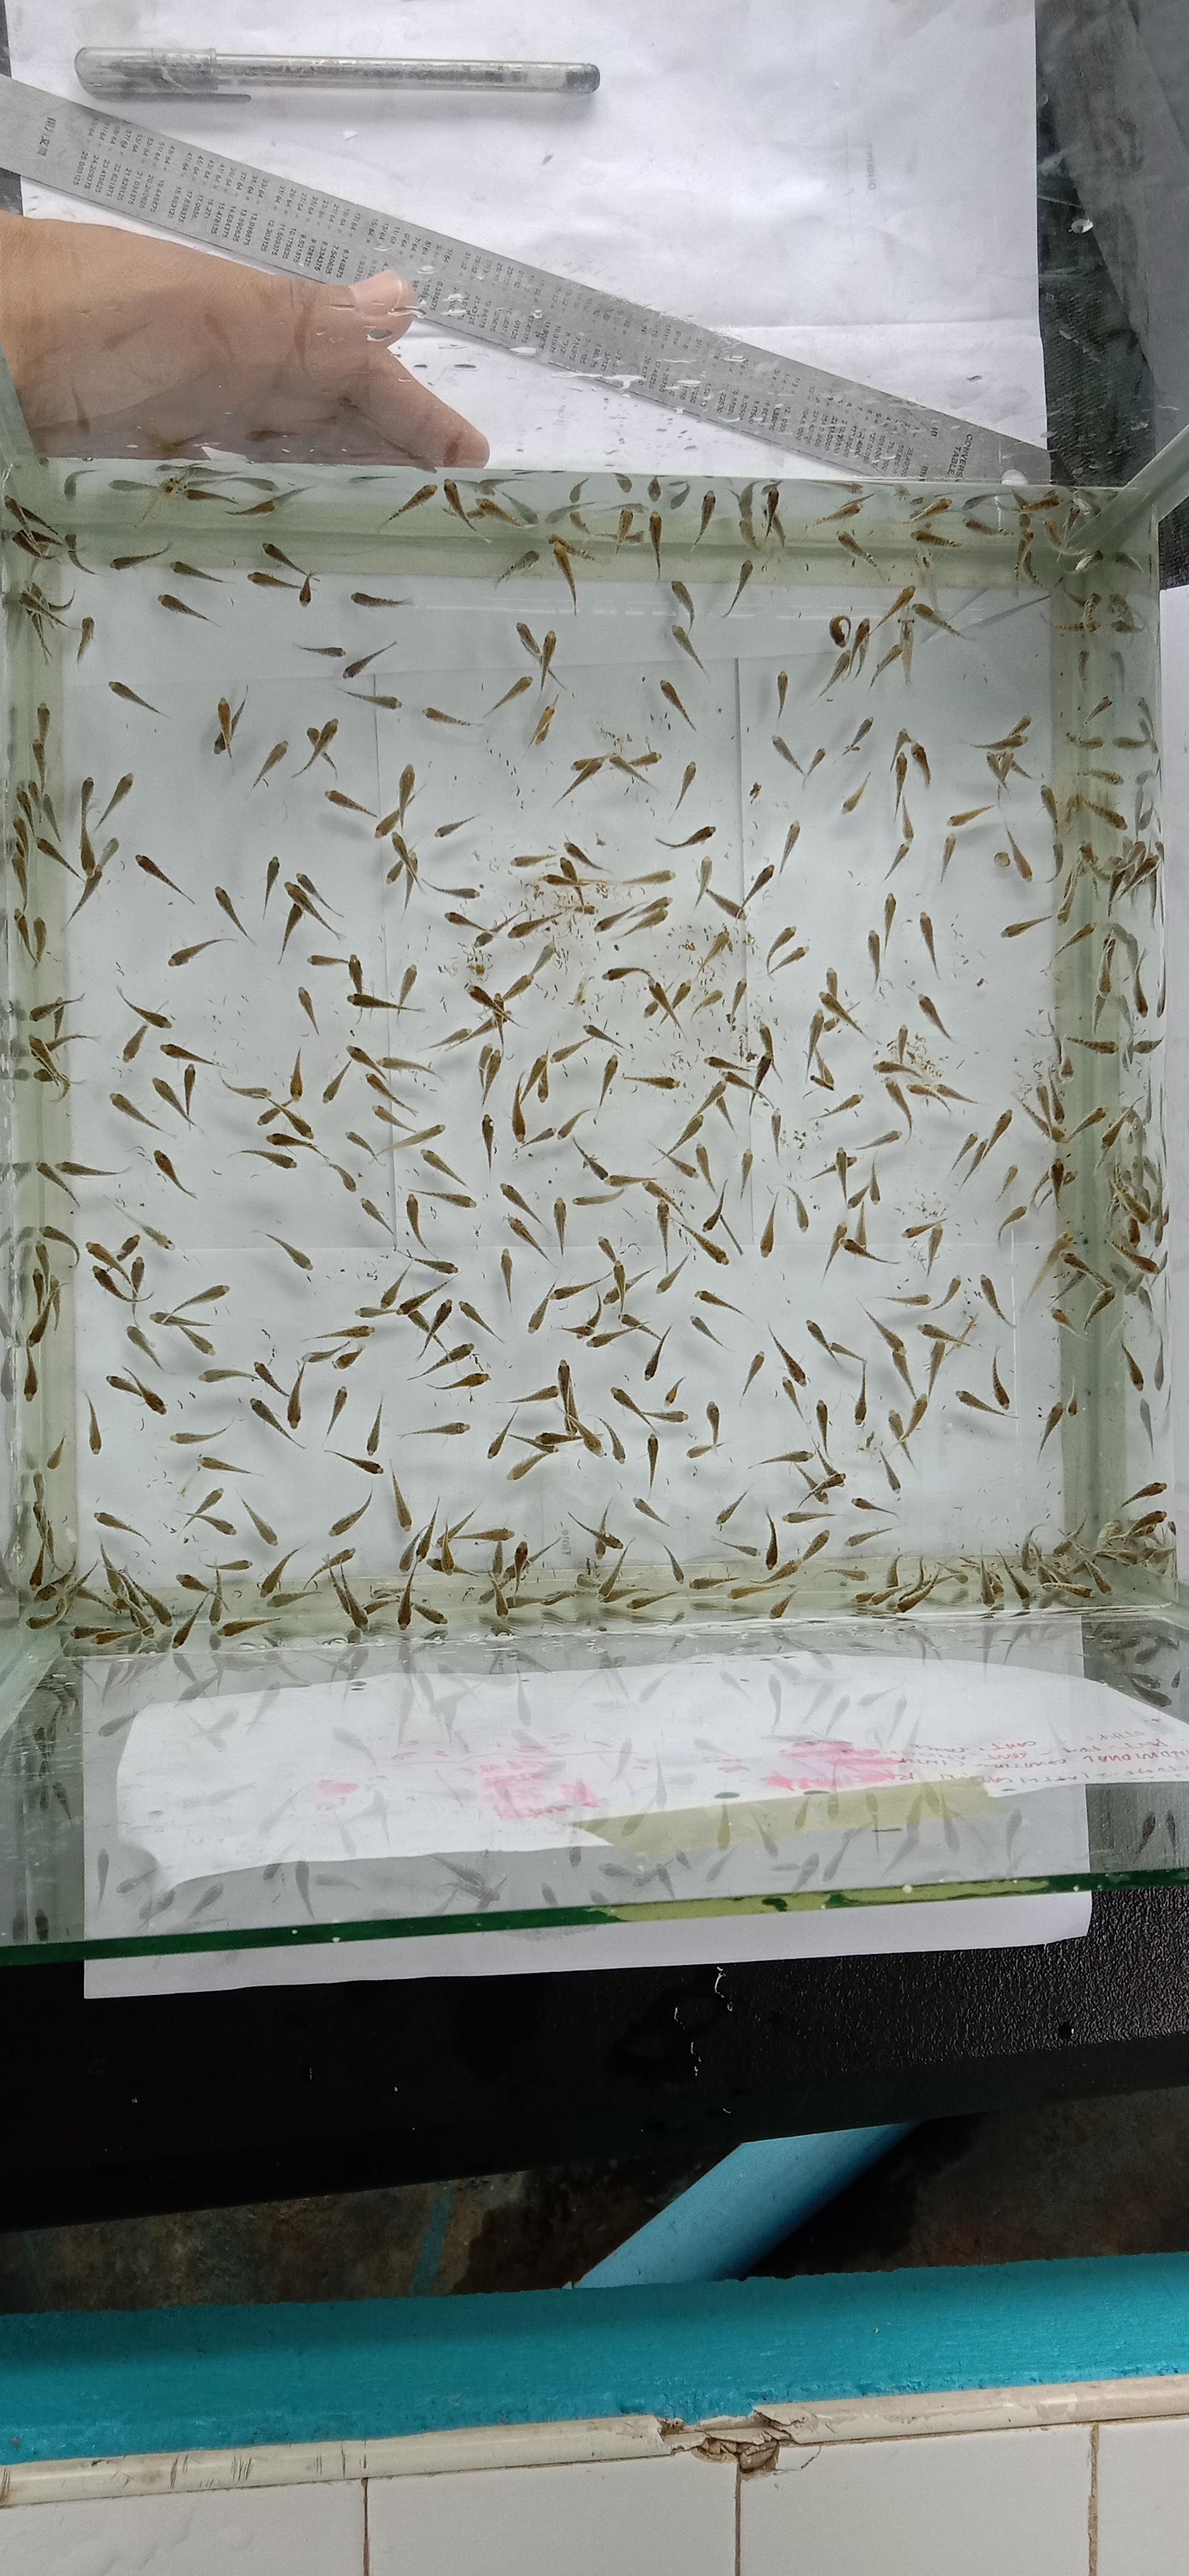fish: (325, 762, 484, 912), (816, 537, 967, 694), (56, 1542, 204, 1655), (513, 838, 673, 936), (425, 942, 559, 1051), (37, 773, 131, 925), (509, 1035, 620, 1154), (712, 1507, 828, 1618), (491, 1359, 611, 1466), (456, 1529, 565, 1637), (1016, 1081, 1104, 1212), (752, 1398, 847, 1516), (355, 1263, 454, 1358), (493, 532, 601, 616), (553, 726, 661, 806), (110, 466, 276, 515), (803, 967, 868, 1091), (886, 1338, 951, 1461), (882, 729, 931, 879), (853, 1554, 966, 1618), (594, 1235, 659, 1343), (99, 1544, 172, 1630), (258, 1543, 354, 1608), (567, 1500, 629, 1598), (23, 1238, 60, 1401), (345, 1103, 445, 1162), (701, 1146, 756, 1254), (604, 965, 690, 1030), (1017, 1084, 1104, 1147), (268, 1129, 357, 1191), (858, 1300, 915, 1395), (443, 479, 528, 541), (345, 1044, 417, 1118), (25, 1560, 98, 1631), (394, 1513, 437, 1630), (695, 856, 774, 920), (176, 1559, 251, 1625), (554, 1359, 603, 1456), (36, 1157, 130, 1207), (801, 1399, 846, 1505), (952, 1108, 1012, 1186), (821, 1217, 896, 1278), (1108, 1153, 1164, 1235), (27, 1030, 95, 1096), (329, 1396, 386, 1476), (69, 835, 120, 923), (912, 552, 962, 639), (1039, 783, 1127, 833), (571, 1137, 654, 1190), (1101, 921, 1147, 1015), (17, 581, 76, 655), (1013, 492, 1059, 585), (1022, 1227, 1074, 1307), (820, 616, 869, 700), (673, 1079, 732, 1149), (505, 1429, 581, 1482), (596, 725, 662, 786), (705, 1051, 775, 1108), (346, 1044, 442, 1086), (346, 963, 423, 1014), (955, 1347, 1011, 1417), (757, 1184, 809, 1258), (4, 496, 64, 559), (321, 1044, 384, 1103), (287, 871, 344, 936), (253, 1359, 306, 1429), (518, 1105, 591, 1154), (425, 1507, 477, 1576), (510, 1052, 550, 1143), (817, 968, 867, 1037), (621, 1312, 671, 1380), (7, 783, 33, 913), (598, 895, 671, 941), (481, 1536, 529, 1607), (90, 1258, 154, 1310), (551, 1022, 627, 1065), (375, 763, 417, 839), (134, 853, 196, 905), (610, 1386, 687, 1428), (1108, 838, 1159, 902), (869, 619, 915, 688), (692, 1143, 727, 1232), (770, 1528, 829, 1582), (249, 1396, 307, 1450), (830, 1344, 868, 1425), (152, 1284, 229, 1323), (886, 1394, 930, 1462), (291, 716, 339, 778), (500, 1362, 570, 1404), (515, 620, 559, 688), (405, 1295, 451, 1359), (329, 1564, 370, 1636), (865, 892, 897, 983), (568, 1503, 624, 1556), (505, 942, 557, 998), (186, 472, 275, 504), (568, 500, 639, 540), (601, 1258, 651, 1315), (729, 1562, 798, 1603), (135, 471, 186, 526), (106, 1368, 166, 1414), (409, 1341, 475, 1383), (227, 484, 310, 517), (554, 753, 608, 804), (445, 908, 515, 946), (811, 1145, 859, 1201), (116, 1204, 173, 1251), (804, 1318, 865, 1362), (152, 1313, 214, 1355), (886, 1275, 962, 1310), (385, 832, 419, 910), (373, 1123, 445, 1159), (364, 1069, 416, 1118), (355, 1268, 408, 1316), (804, 1009, 835, 1090), (380, 482, 436, 528), (258, 1545, 303, 1600), (963, 713, 1031, 750), (176, 1572, 225, 1624), (549, 535, 581, 613), (509, 1535, 559, 1585), (499, 1181, 547, 1232), (882, 803, 915, 879), (642, 976, 689, 1029), (673, 1221, 729, 1264), (1029, 1157, 1074, 1211), (1017, 1086, 1061, 1140), (1038, 782, 1063, 879), (808, 494, 871, 532), (151, 1074, 196, 1128), (486, 741, 523, 804), (213, 884, 253, 942), (398, 1512, 438, 1571), (256, 1230, 312, 1272), (26, 1277, 59, 1349), (685, 1400, 725, 1458), (256, 1099, 313, 1139), (342, 638, 398, 679), (892, 728, 931, 787), (1036, 1398, 1074, 1456), (768, 1327, 807, 1384), (151, 1147, 195, 1198), (211, 694, 245, 757), (455, 1299, 505, 1341), (110, 1091, 162, 1133), (902, 1222, 943, 1274), (466, 985, 516, 1027), (97, 772, 135, 827), (75, 777, 96, 878), (118, 990, 173, 1029), (20, 582, 76, 620), (505, 1216, 551, 1262), (94, 1510, 151, 1547), (328, 1490, 373, 1537), (86, 1234, 140, 1273), (872, 1024, 915, 1072), (917, 1313, 977, 1348), (27, 1519, 54, 1593), (976, 1273, 1014, 1326), (668, 624, 707, 676), (1108, 1237, 1161, 1275), (907, 1078, 974, 1108), (1061, 1251, 1111, 1291), (109, 679, 163, 716), (486, 674, 532, 717), (836, 529, 879, 574), (658, 677, 695, 730), (14, 912, 48, 968), (124, 1324, 165, 1372), (442, 479, 477, 534), (262, 538, 310, 578), (723, 559, 755, 619), (35, 1162, 79, 1206), (420, 1147, 467, 1188), (894, 1572, 940, 1613), (168, 936, 230, 967), (380, 1055, 442, 1086), (308, 1547, 355, 1588), (650, 1139, 698, 1178), (251, 738, 289, 789), (559, 477, 593, 531), (693, 927, 732, 975), (27, 1030, 95, 1058), (28, 993, 85, 1025), (36, 837, 81, 878), (240, 1496, 277, 1545), (562, 1292, 603, 1338), (495, 547, 541, 588), (98, 1545, 129, 1604), (983, 750, 1032, 787), (913, 601, 962, 638), (397, 1282, 450, 1316), (596, 1546, 629, 1601), (798, 1468, 845, 1506), (734, 481, 759, 551), (916, 991, 952, 1040), (500, 1590, 572, 1614), (157, 591, 212, 623), (469, 495, 518, 531), (30, 702, 51, 784), (571, 1136, 610, 1180), (216, 1616, 282, 1642), (881, 1079, 913, 1133), (705, 1053, 759, 1084), (486, 1407, 518, 1460), (1052, 919, 1096, 957), (512, 1428, 580, 1453), (626, 1592, 684, 1621), (268, 1129, 326, 1157), (1003, 1562, 1039, 1609), (110, 544, 170, 571), (346, 991, 422, 1013), (761, 482, 786, 549), (1117, 1480, 1166, 1513), (505, 1448, 552, 1482), (185, 1487, 225, 1527), (27, 1035, 64, 1079), (747, 1051, 775, 1109), (424, 1023, 482, 1050), (642, 1324, 671, 1380), (359, 1196, 394, 1240), (159, 1040, 218, 1067), (477, 1043, 503, 1103), (334, 685, 399, 709), (954, 1388, 1008, 1417), (655, 823, 716, 848), (1080, 798, 1128, 830), (814, 1091, 864, 1122), (769, 734, 804, 777), (594, 899, 640, 932), (608, 752, 652, 786), (526, 1282, 556, 1333), (390, 1461, 412, 1528), (1004, 826, 1032, 881), (822, 1221, 848, 1277), (71, 1625, 136, 1648), (425, 1547, 474, 1577), (654, 1252, 690, 1293), (879, 584, 915, 625), (486, 1588, 516, 1637), (63, 530, 96, 575), (278, 905, 303, 963), (521, 1053, 551, 1103), (1100, 1107, 1133, 1152), (563, 839, 604, 874), (1081, 1287, 1115, 1329), (55, 1159, 129, 1178), (671, 760, 696, 816), (923, 1341, 948, 1396), (1128, 1508, 1167, 1543), (172, 1600, 201, 1647), (253, 1359, 288, 1399), (950, 1131, 978, 1180), (305, 1323, 373, 1344), (542, 857, 583, 890), (508, 912, 559, 939), (842, 1238, 896, 1264), (285, 1364, 307, 1427), (568, 1419, 605, 1456), (236, 1147, 296, 1170), (326, 788, 375, 817), (603, 1260, 631, 1308), (918, 912, 939, 975), (170, 558, 224, 583), (329, 1450, 383, 1476), (415, 1188, 476, 1210), (741, 862, 775, 903), (907, 494, 951, 524), (546, 497, 590, 528), (10, 526, 51, 559), (598, 1416, 626, 1463), (39, 1224, 81, 1256), (704, 887, 746, 919), (643, 1177, 681, 1213), (61, 468, 99, 503), (551, 1275, 606, 1299), (765, 925, 796, 967), (429, 1370, 490, 1391), (1118, 1342, 1145, 1391), (700, 1183, 728, 1232), (152, 1308, 212, 1329), (688, 1314, 725, 1349), (603, 1164, 654, 1189), (988, 1348, 1010, 1408), (777, 820, 801, 874), (769, 942, 808, 975), (757, 1191, 777, 1257), (902, 1395, 930, 1442), (751, 1448, 812, 1469), (599, 1578, 649, 1604), (715, 1488, 749, 1526), (694, 1289, 743, 1315), (398, 1421, 469, 1438), (840, 772, 870, 814), (421, 879, 482, 900), (175, 1325, 215, 1357), (777, 1377, 806, 1420), (882, 838, 913, 878), (739, 1350, 764, 1400), (849, 617, 870, 676), (321, 1060, 351, 1102), (928, 1274, 962, 1310), (372, 1102, 412, 1132), (32, 1063, 69, 1095), (530, 700, 557, 745), (977, 1565, 1004, 1610), (583, 1022, 629, 1048), (502, 491, 538, 525), (403, 1193, 425, 1247), (84, 1390, 103, 1455), (843, 1528, 890, 1553), (842, 716, 873, 754), (555, 1359, 575, 1417), (597, 1053, 619, 1107), (176, 1572, 221, 1599), (711, 1536, 760, 1560), (197, 1454, 251, 1476), (1062, 1034, 1117, 1056), (1000, 915, 1050, 938), (555, 1105, 591, 1138), (996, 1204, 1026, 1244), (760, 1505, 778, 1570), (1074, 765, 1123, 788), (814, 1445, 844, 1484), (326, 1384, 349, 1435), (597, 1236, 642, 1262), (463, 947, 494, 983), (171, 1426, 229, 1446), (296, 985, 320, 1034), (269, 1586, 318, 1609), (669, 579, 694, 625), (346, 1043, 384, 1074), (646, 512, 664, 576), (614, 505, 640, 549), (262, 855, 281, 914), (631, 1497, 669, 1527), (695, 490, 716, 542), (691, 986, 725, 1020), (947, 803, 994, 827), (307, 952, 358, 974), (557, 886, 596, 915), (1020, 1525, 1044, 1570), (351, 590, 411, 607), (344, 1131, 380, 1161), (120, 1022, 147, 1061), (807, 1053, 835, 1092), (850, 1361, 867, 1424), (224, 1079, 272, 1101), (539, 630, 559, 686), (785, 1186, 809, 1231), (434, 813, 478, 837), (445, 910, 487, 934), (423, 705, 471, 726), (621, 869, 675, 888), (510, 1079, 526, 1142), (248, 569, 298, 590), (873, 1057, 921, 1078), (407, 1255, 457, 1275), (365, 1397, 384, 1452), (855, 1128, 901, 1150), (411, 1599, 447, 1627), (226, 497, 279, 516), (1014, 491, 1059, 513), (821, 1565, 867, 1586), (653, 1200, 671, 1257), (995, 1163, 1019, 1204), (730, 1582, 775, 1603), (184, 485, 237, 504), (328, 1160, 359, 1191), (801, 1529, 829, 1564), (879, 892, 897, 946), (814, 1399, 831, 1455), (691, 1143, 713, 1188), (851, 1496, 897, 1517), (1076, 838, 1101, 876), (662, 1546, 686, 1586), (510, 849, 559, 869), (736, 1148, 754, 1201), (155, 469, 189, 498), (964, 490, 1004, 513), (76, 615, 95, 663), (181, 1064, 198, 1121), (508, 1541, 529, 1584), (639, 1407, 688, 1426), (910, 741, 931, 786), (878, 1451, 900, 1492), (695, 856, 713, 907), (552, 1196, 568, 1256), (396, 964, 418, 1006), (620, 1310, 655, 1336), (890, 1024, 913, 1064), (480, 1114, 497, 1169), (585, 1329, 631, 1349), (108, 477, 156, 496), (851, 1590, 894, 1611), (288, 1047, 305, 1099), (497, 1249, 513, 1303), (963, 515, 1006, 536), (195, 1515, 235, 1537), (939, 834, 959, 879), (397, 762, 417, 807), (910, 528, 957, 547), (201, 1367, 254, 1384), (461, 1526, 512, 1544), (573, 1561, 606, 1588), (644, 1434, 660, 1490), (622, 1074, 678, 1089), (728, 977, 747, 1022), (803, 746, 826, 782), (604, 965, 651, 983), (331, 1344, 364, 1370), (571, 1190, 622, 1207), (827, 613, 851, 646), (767, 1557, 801, 1582), (1063, 730, 1104, 750), (1083, 694, 1112, 722), (754, 1022, 774, 1061), (598, 726, 634, 747), (664, 477, 690, 508), (772, 670, 788, 716), (769, 1108, 785, 1154), (684, 1441, 727, 1459), (866, 929, 881, 979), (705, 1400, 721, 1446), (865, 1159, 882, 1203), (902, 1222, 940, 1242), (1071, 547, 1099, 575), (1113, 733, 1154, 751), (688, 1574, 730, 1592), (767, 1591, 794, 1619), (567, 506, 592, 536), (1048, 1305, 1076, 1332), (782, 1509, 828, 1525), (884, 1552, 903, 1590), (517, 880, 545, 905), (1129, 1035, 1164, 1055), (568, 976, 590, 1007), (346, 954, 364, 993), (661, 1377, 685, 1404), (299, 643, 345, 658), (45, 1436, 65, 1469), (299, 1347, 335, 1365), (899, 799, 915, 841), (853, 1429, 878, 1455), (597, 1236, 620, 1263), (297, 572, 315, 606), (211, 1558, 252, 1573), (567, 476, 589, 503), (632, 748, 663, 764), (614, 472, 634, 495), (991, 850, 1012, 872), (647, 476, 663, 502), (747, 780, 762, 802)
